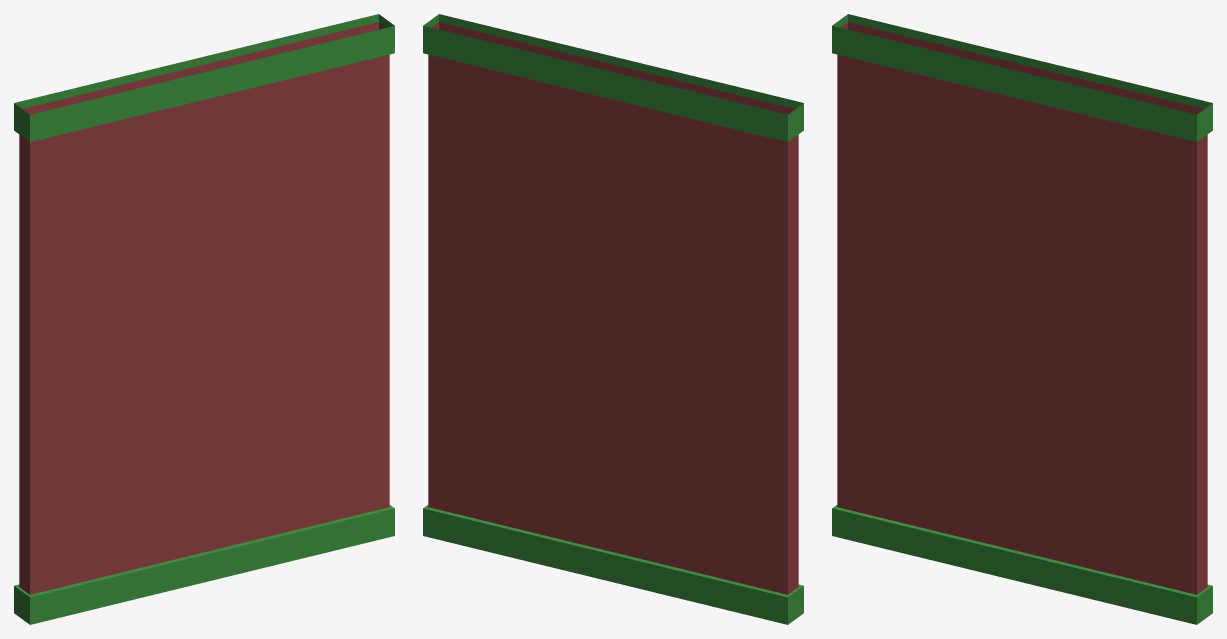
Rendered from Pared con Zocalo UV.FBX.
The picture shows the model from 3 angles, left to right: view 1: azimuth 30°, elevation 25°; view 2: azimuth 150°, elevation 25°; view 3: azimuth 330°, elevation 25°; orthographic projection.
Visible parts, largest first — view 1: Pared, Zocalo1, Zocalo2; view 2: Pared, Zocalo1, Zocalo2; view 3: Pared, Zocalo1, Zocalo2.
Boxes of the visible parts, x1,y1,x2,y2 form: Pared: (19, 22, 389, 594); Zocalo1: (14, 14, 394, 142); Zocalo2: (14, 505, 394, 624); Pared: (428, 22, 798, 594); Zocalo1: (423, 14, 803, 142); Zocalo2: (423, 505, 803, 624); Pared: (837, 22, 1207, 594); Zocalo1: (832, 14, 1212, 142); Zocalo2: (832, 505, 1212, 624).
Bounding box in the file's own units: 48.34 × 64.58 × 3.69.
